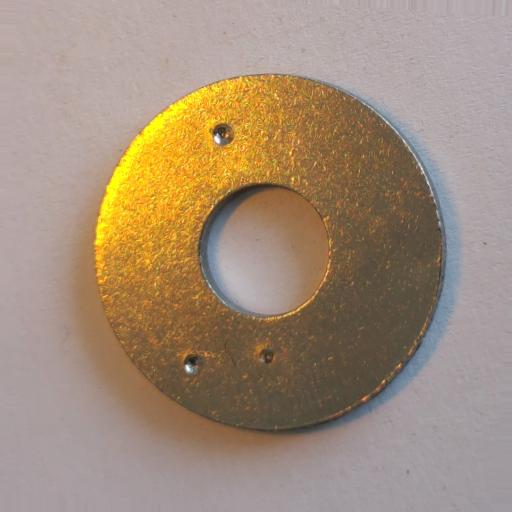circular_cavity: (211, 124, 236, 147), (184, 356, 202, 375), (261, 351, 274, 364)
